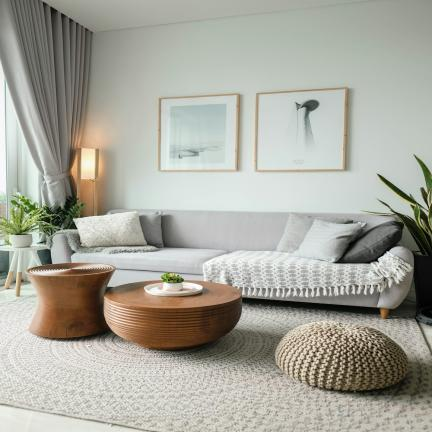cabinet: (0, 296, 432, 432), (0, 423, 12, 432), (44, 426, 58, 430), (78, 428, 84, 431), (31, 427, 35, 431)
chair: (0, 0, 91, 206)
door: (0, 405, 144, 432)
floor: (255, 88, 347, 171), (159, 94, 239, 171)
person: (362, 155, 432, 307), (0, 195, 54, 245), (42, 196, 85, 237), (161, 273, 183, 291), (37, 250, 51, 264), (38, 242, 41, 244)
vegetables: (82, 0, 432, 213)
wall: (0, 71, 40, 216), (0, 253, 12, 279), (22, 254, 30, 270), (32, 233, 38, 244), (22, 273, 26, 281), (0, 280, 4, 286), (12, 275, 15, 283), (32, 262, 34, 265), (0, 242, 2, 243)
